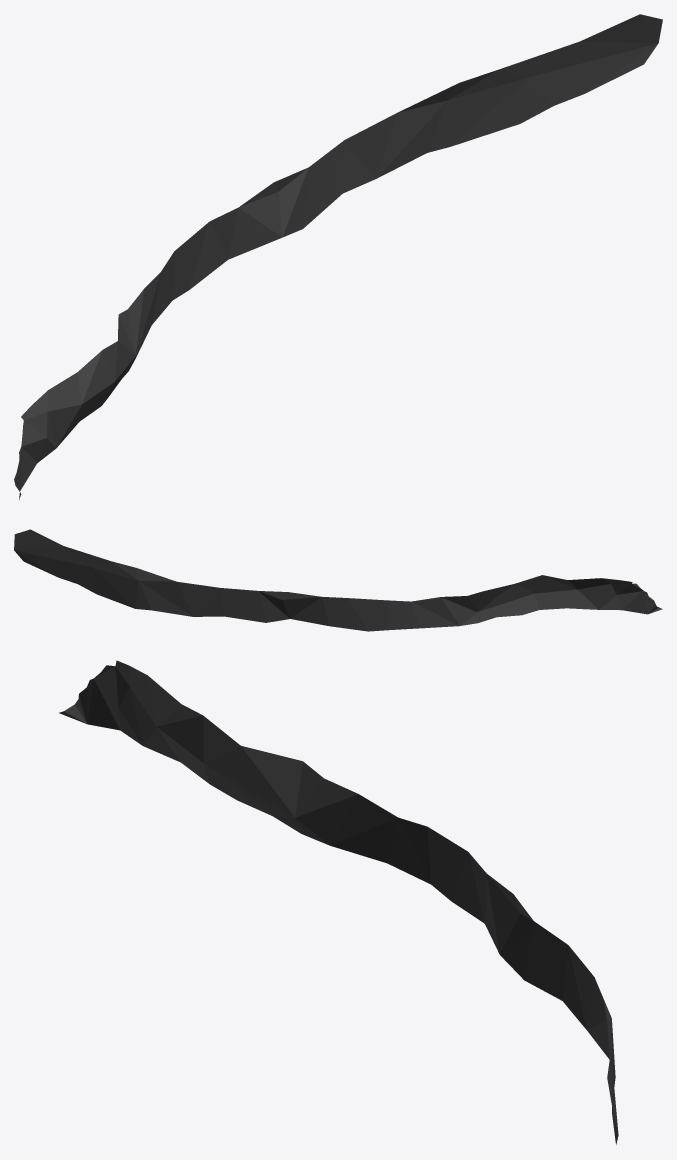
File: A_sacral_medial_A_sacral_medial.glb
The picture shows the model from 3 angles, top to bottom: view 1: azimuth 30°, elevation 25°; view 2: azimuth 150°, elevation 25°; view 3: azimuth 270°, elevation 25°; orthographic projection. The views are drawn at different scales.
Visible parts, largest first — view 1: A_sacral_medial_A_sacral_medial; view 2: A_sacral_medial_A_sacral_medial; view 3: A_sacral_medial_A_sacral_medial.
Part boxes in pixels (x1,y1,x2,y2): A_sacral_medial_A_sacral_medial: (14,14,662,499); A_sacral_medial_A_sacral_medial: (14,529,662,631); A_sacral_medial_A_sacral_medial: (59,660,618,1144).
Size of the model in its own units: 0.026 by 0.00299 by 0.0124.
Materials: 1 (1 with a texture image).
